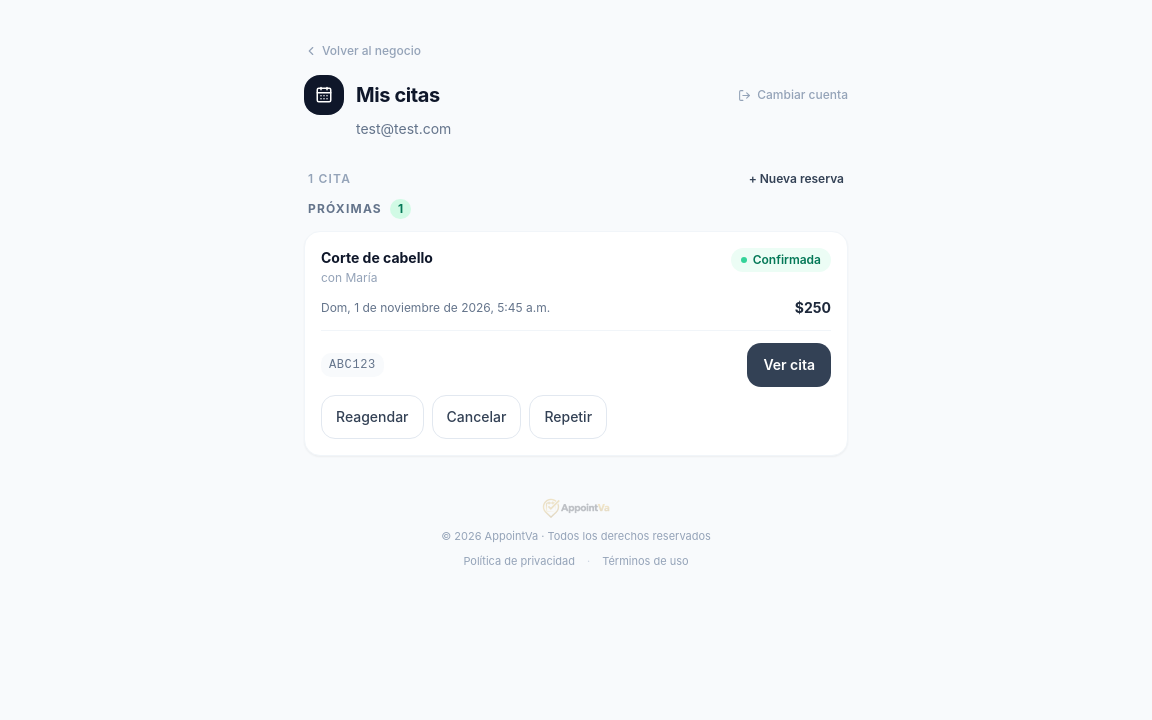
Test: MisCitasPage › el botón Cerrar del diálogo de reagendar tiene nombre accesible y lo cierra
Click the button "Reagendar" at (372, 417), box x1=321 y1=395 x2=424 y2=439
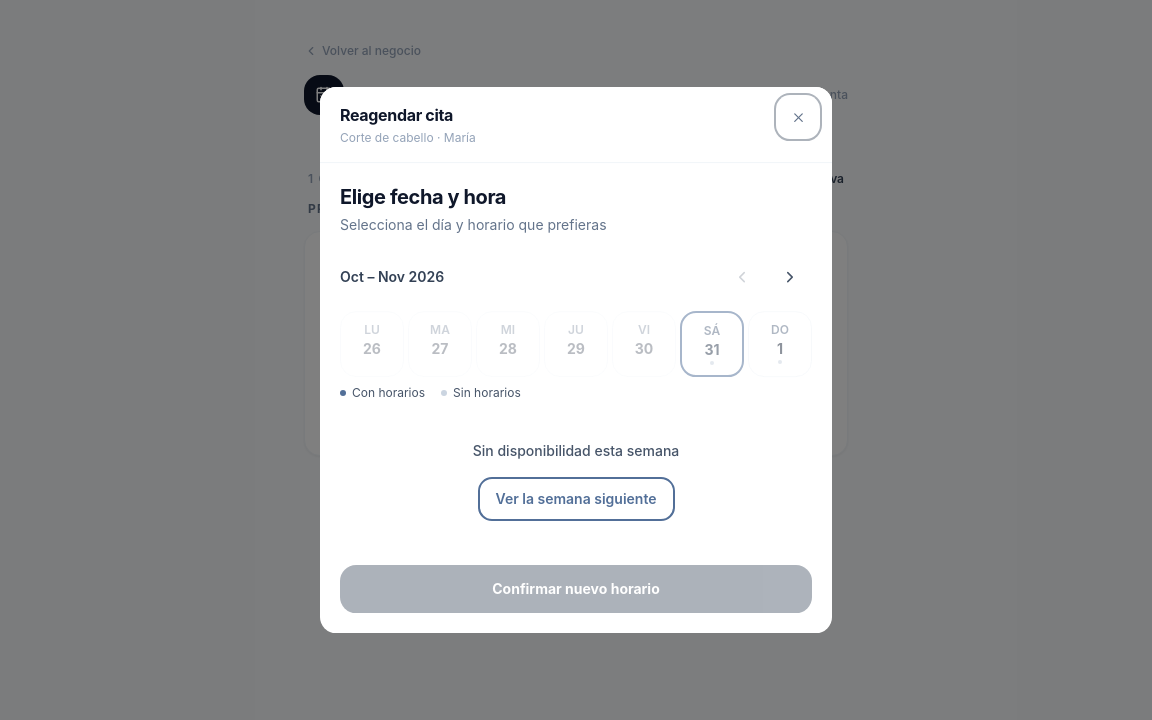
Click the button named "Cerrar" at (798, 117), box x1=776 y1=95 x2=820 y2=139
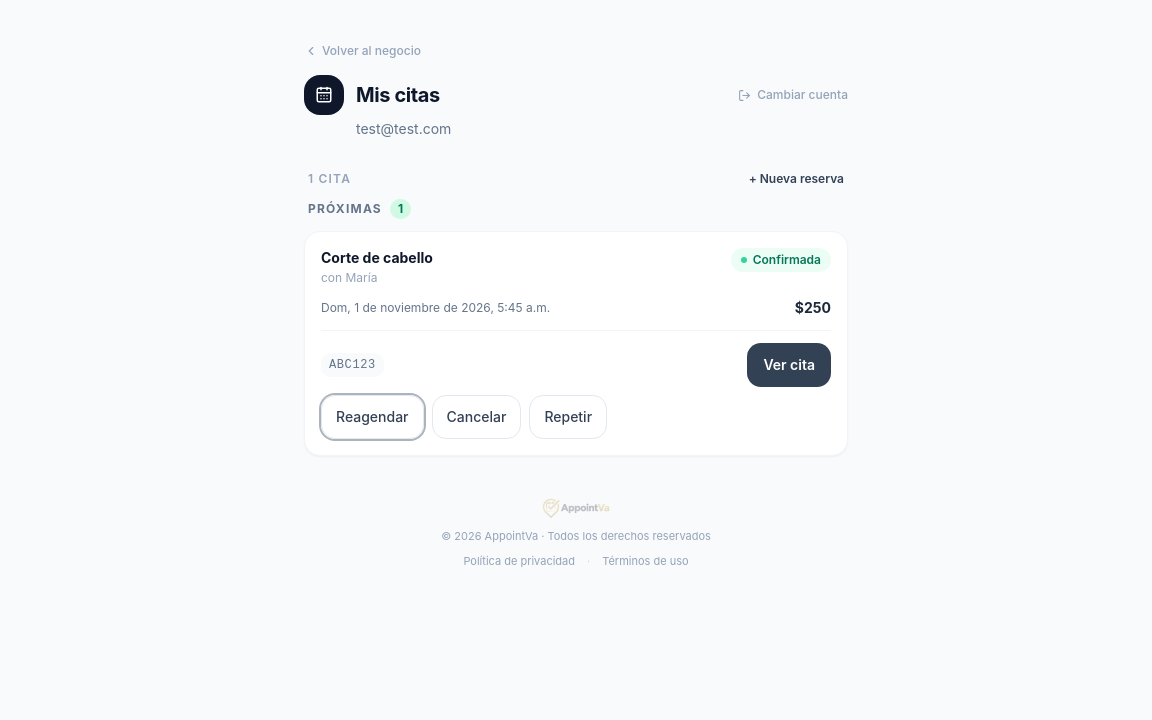
Now the dialog is gone
